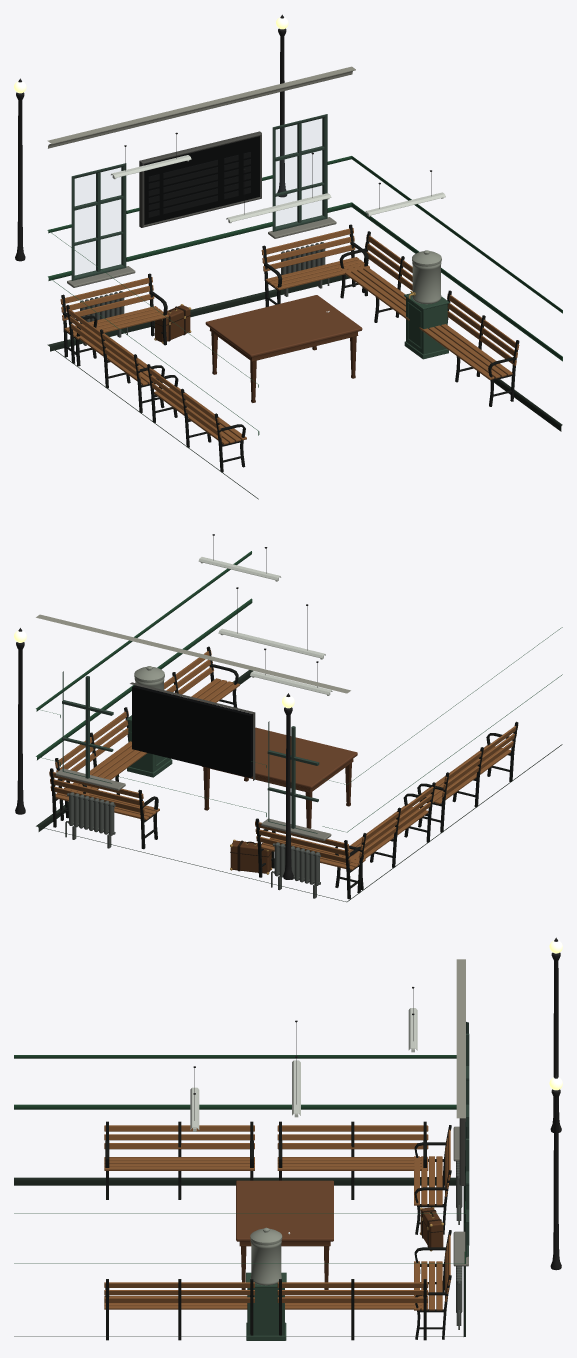
The model's file is station.glb.
3 views of the same model, one above another, from view 1: azimuth 30°, elevation 25°; view 2: azimuth 150°, elevation 25°; view 3: azimuth 270°, elevation 25° (orthographic). The views are drawn at different scales.
Parts seen in each view (by area): view 1: Baenke_Latten, Tischplatte, Baenke_Eisen, Fensterrahmen, Tafel, Kachelleisten, Klappfelder, Deckenkehle, Sockelleiste, Kessel_Sockel, Bahnsteiglampen, Neon_Gehaeuse (+7 smaller); view 2: Baenke_Latten, Tafel, Baenke_Eisen, Tischplatte, Heizkoerper, Kachelleisten, Fensterrahmen, Bahnsteiglampen, Neon_Gehaeuse, Deckenkehle, Fensterbaenke, Koffer (+6 smaller); view 3: Baenke_Latten, Tischplatte, Kachelleisten, Baenke_Eisen, Sockelleiste, Kessel_Sockel, Bahnsteiglampen, Kessel, Deckenkehle, Neon_Gehaeuse, Fensterrahmen, Koffer (+2 smaller).
Boxes of the visible parts, bbox=[...] form: Baenke_Latten: bbox=[60, 228, 519, 444]; Tischplatte: bbox=[205, 295, 362, 357]; Baenke_Eisen: bbox=[61, 224, 519, 472]; Fensterrahmen: bbox=[71, 114, 327, 280]; Tafel: bbox=[144, 136, 259, 224]; Kachelleisten: bbox=[47, 156, 562, 435]; Klappfelder: bbox=[148, 152, 250, 217]; Deckenkehle: bbox=[47, 66, 355, 148]; Sockelleiste: bbox=[47, 275, 562, 499]; Kessel_Sockel: bbox=[404, 293, 449, 359]; Bahnsteiglampen: bbox=[15, 14, 287, 261]; Neon_Gehaeuse: bbox=[111, 155, 445, 223]; Baenke_Latten: bbox=[49, 650, 518, 870]; Tafel: bbox=[132, 685, 252, 777]; Baenke_Eisen: bbox=[50, 646, 518, 899]; Tischplatte: bbox=[255, 727, 357, 788]; Heizkoerper: bbox=[69, 792, 319, 885]; Kachelleisten: bbox=[36, 551, 562, 832]; Fensterrahmen: bbox=[62, 671, 319, 833]; Bahnsteiglampen: bbox=[15, 628, 293, 879]; Neon_Gehaeuse: bbox=[198, 557, 332, 695]; Deckenkehle: bbox=[36, 614, 350, 693]; Fensterbaenke: bbox=[55, 768, 331, 840]; Koffer: bbox=[230, 840, 271, 873]; Baenke_Latten: bbox=[104, 1125, 450, 1310]; Tischplatte: bbox=[236, 1180, 333, 1241]; Kachelleisten: bbox=[14, 1055, 465, 1263]; Baenke_Eisen: bbox=[105, 1121, 451, 1340]; Sockelleiste: bbox=[14, 1177, 465, 1336]; Kessel_Sockel: bbox=[246, 1272, 286, 1340]; Bahnsteiglampen: bbox=[550, 937, 561, 1270]; Kessel: bbox=[250, 1227, 282, 1285]; Deckenkehle: bbox=[456, 959, 465, 1118]; Neon_Gehaeuse: bbox=[190, 1008, 417, 1131]; Fensterrahmen: bbox=[465, 1022, 469, 1257]; Koffer: bbox=[420, 1207, 443, 1247].
Size of the model in its own units: 5 by 3.75 by 7.29.
